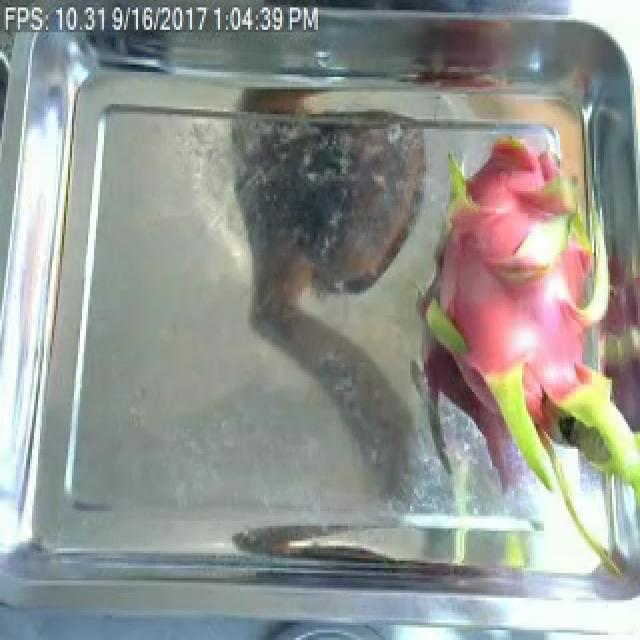fruit: (396, 134, 640, 548)
